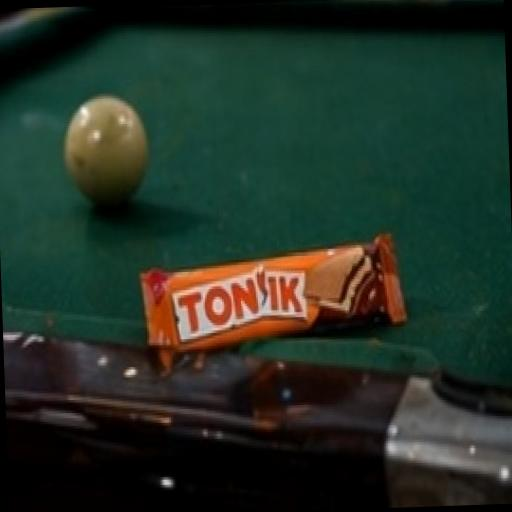tonik: (96, 118, 467, 440)
